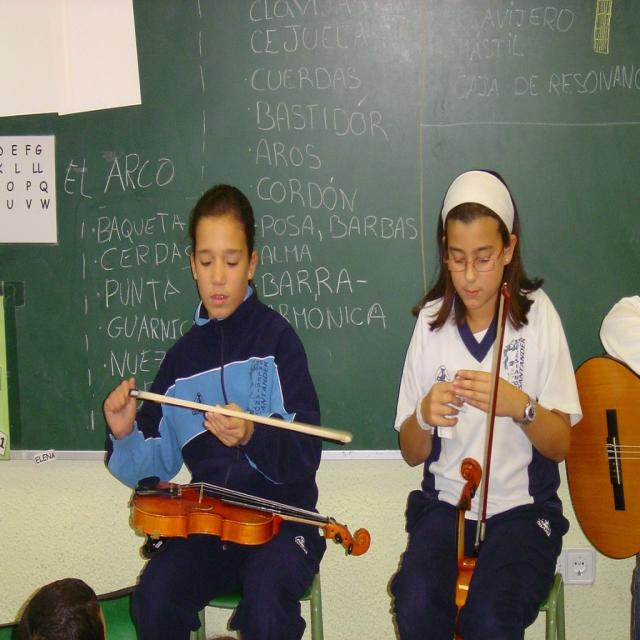guitar: (562, 351, 640, 556)
violin: (126, 472, 374, 558), (451, 452, 484, 631)
